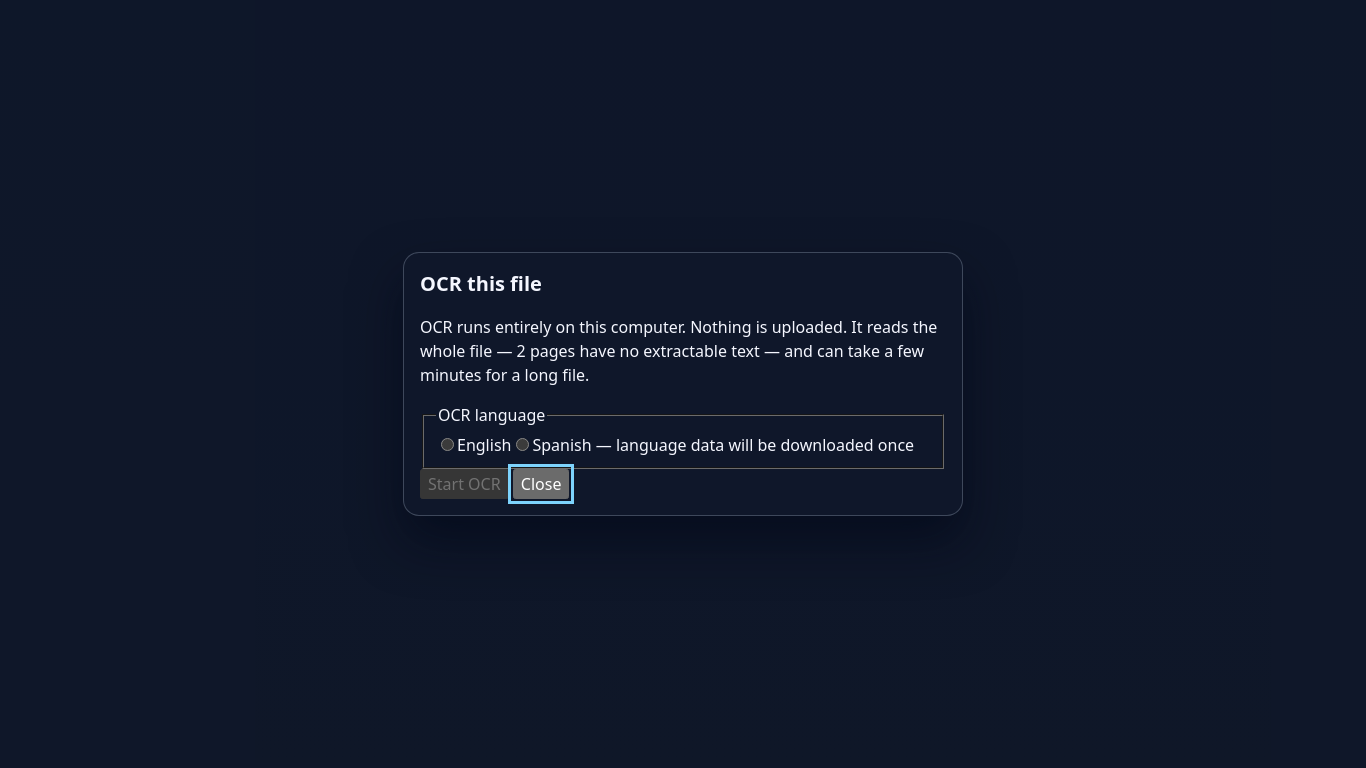
it: OCR dialog › asks for a language every time: Start stays disabled until one is picked
Expected: the button "Start OCR" is disabled, [420,469,509,499]
Step 1. Click the radio button labelled "English" → click(448, 444), box [441,438,454,451]
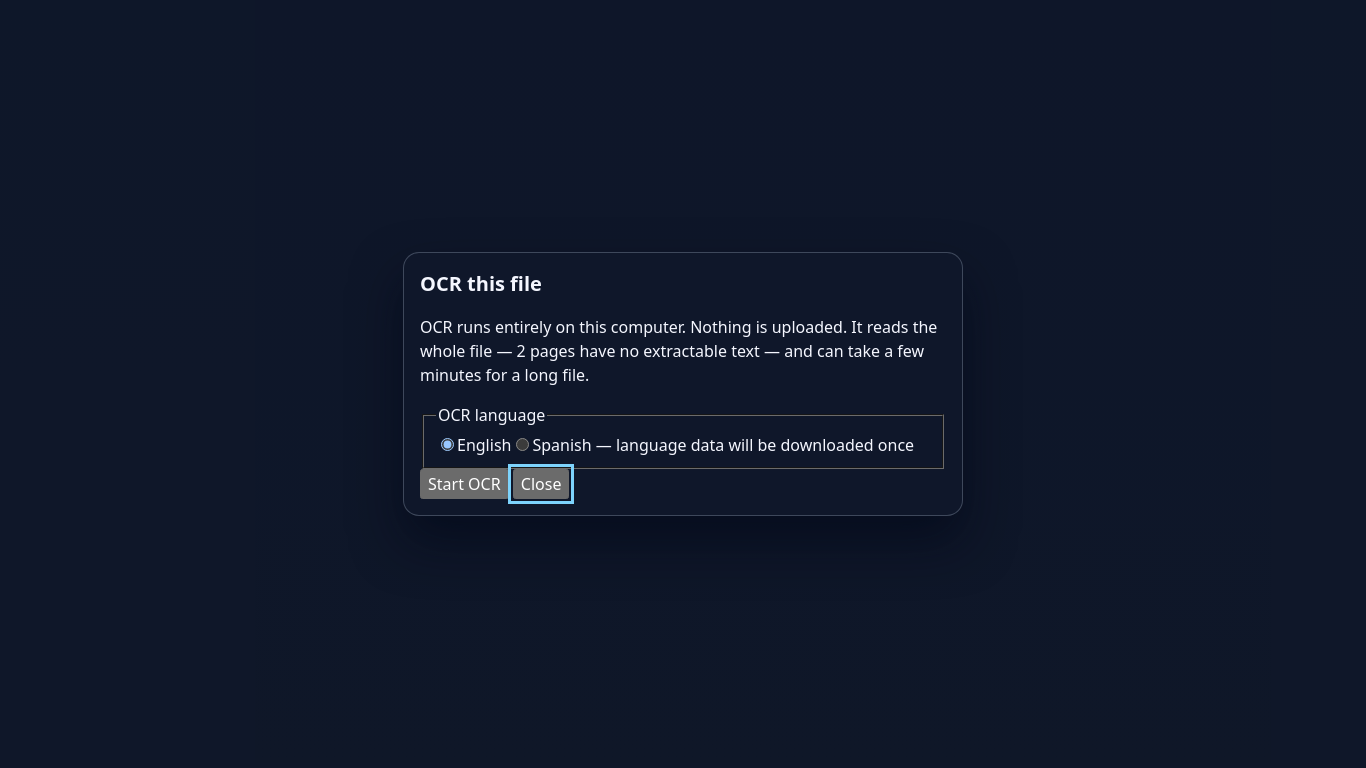
Expected: the radio button labelled "Spanish — language data will be downloaded once" is not checked, [516,438,529,451]
Expected: the button "Start OCR" is enabled, [420,469,509,499]
